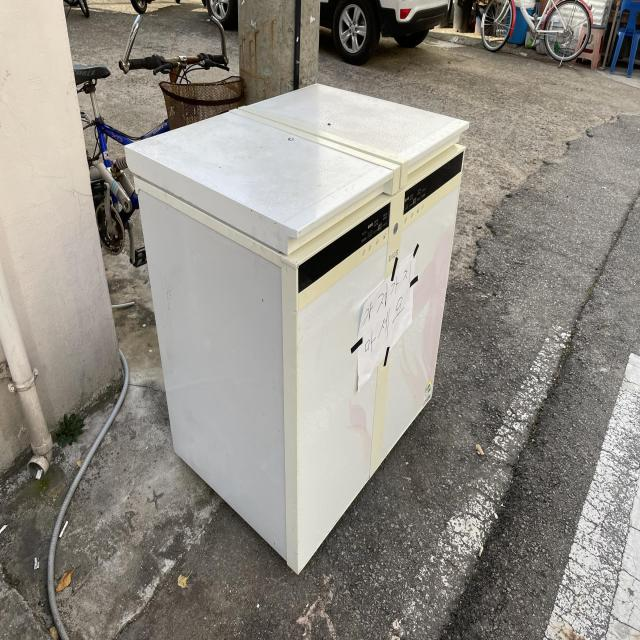refrigerator: (124, 82, 471, 571)
